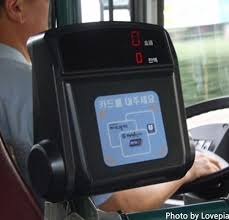terminal: (22, 20, 205, 203)
